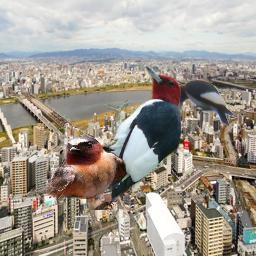Swallow: (38, 137, 126, 210)
Woodpecker: (63, 65, 181, 200), (169, 78, 236, 127)
